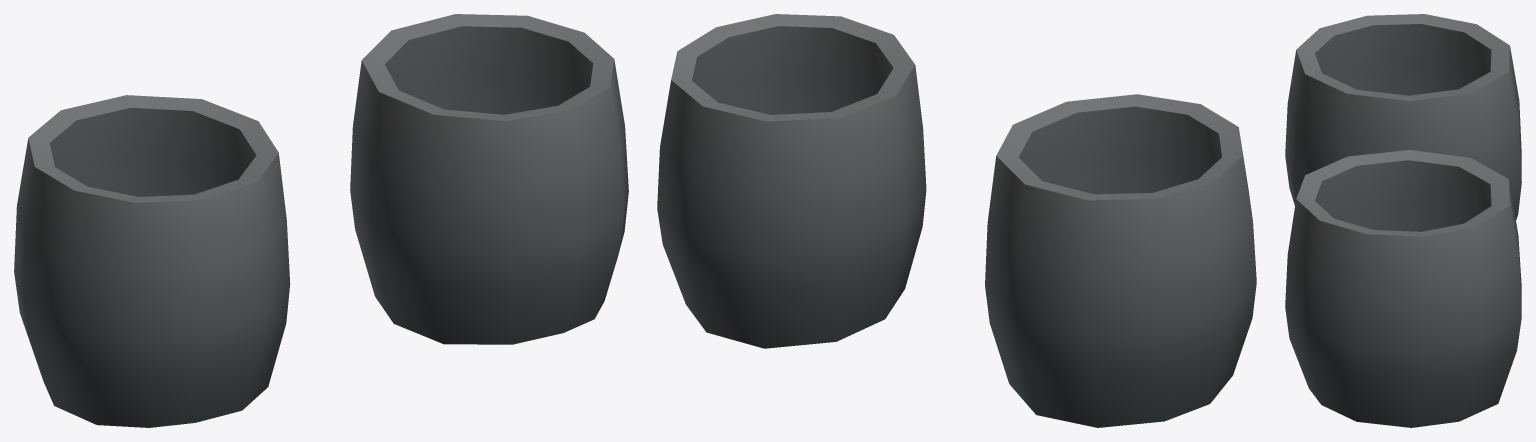
Rendered from Socks_01.glb.
3 renders of one model, left to right at view 1: azimuth 30°, elevation 25°; view 2: azimuth 150°, elevation 25°; view 3: azimuth 270°, elevation 25°, orthographic. The views are drawn at different scales.
Parts seen in each view (by area): view 1: Socks_01; view 2: Socks_01; view 3: Socks_01.
Part boxes in pixels (x1,y1,x2,y2): Socks_01: (14,14,628,427); Socks_01: (657,14,1256,427); Socks_01: (1285,14,1521,427).
Bounding box in the file's own units: 0.2305 × 0.0918 × 0.0992.
1 material, 1 textured.
